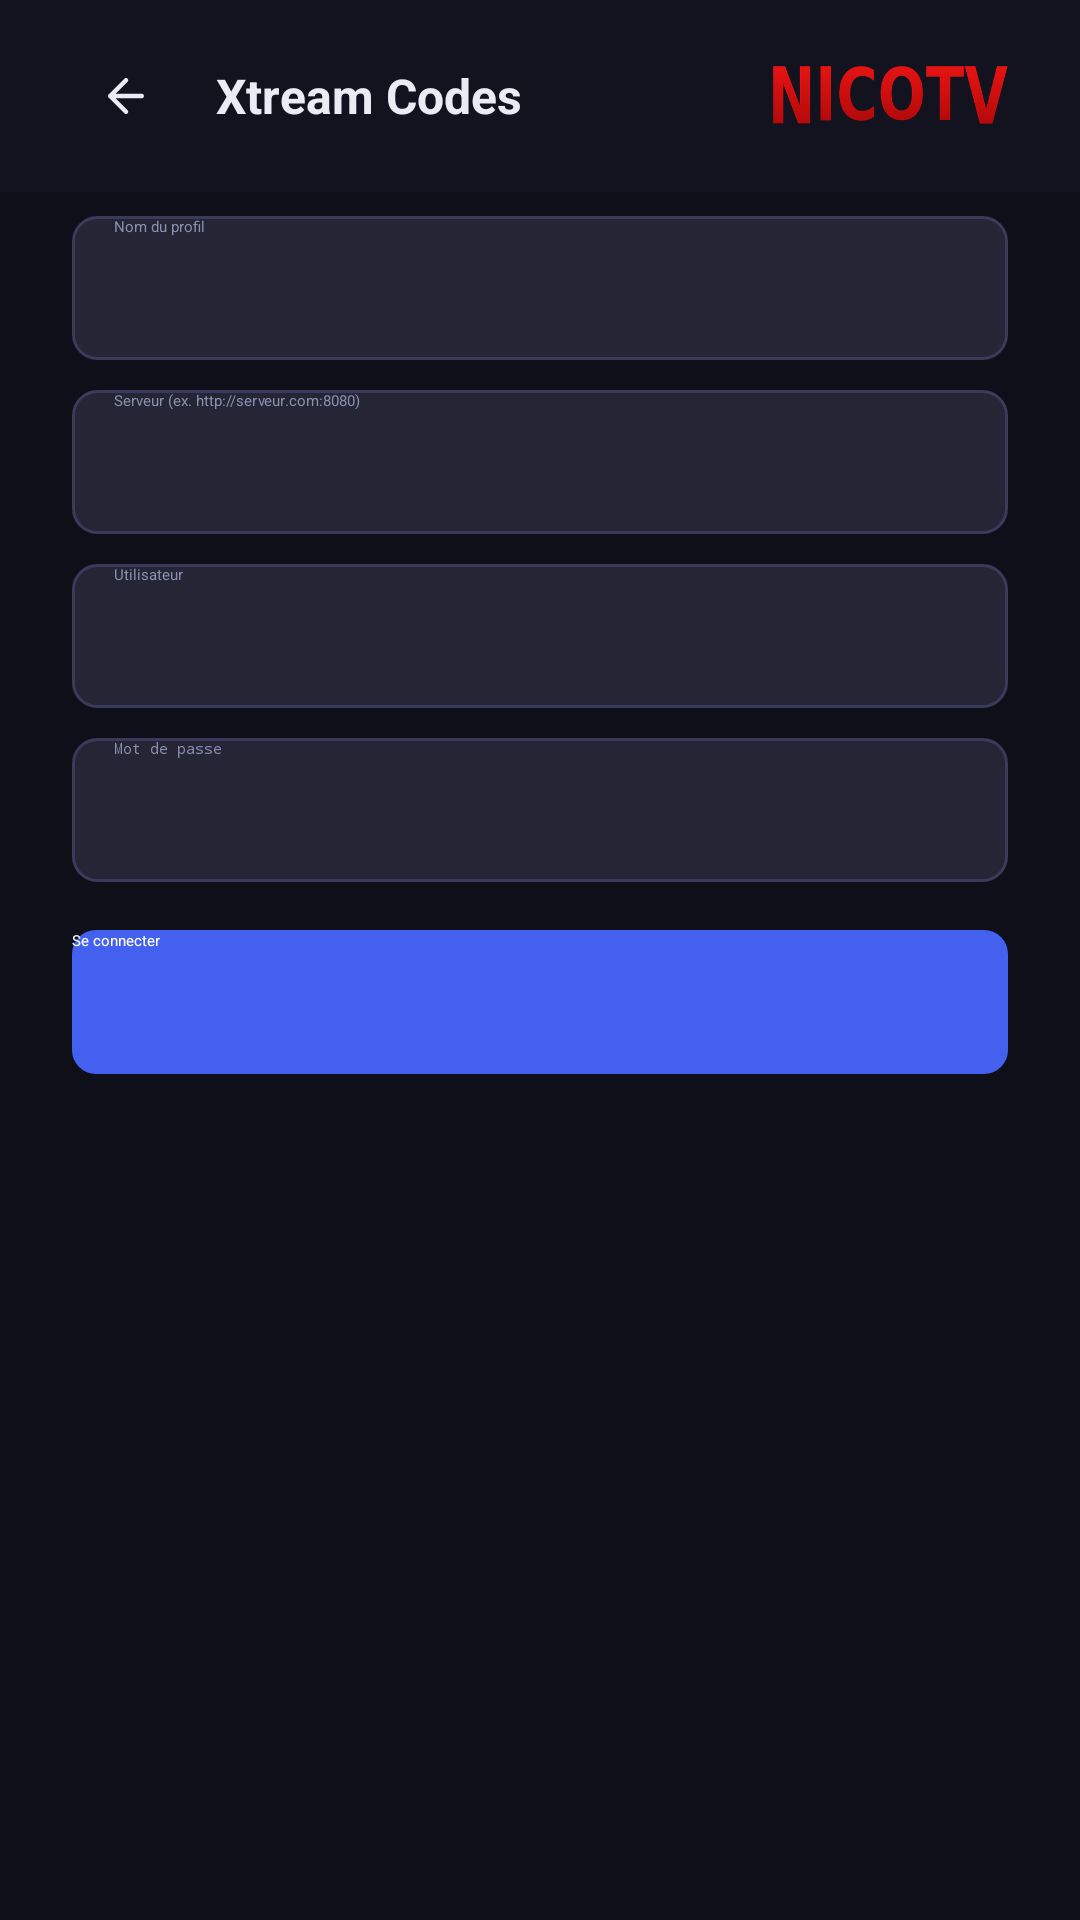

Point at icon controls on the screen. Image size 1080px x 1920px, points as (x,y).
pwa back: (126,96)
